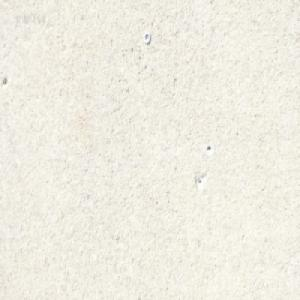Washer: (143, 31, 150, 44)
